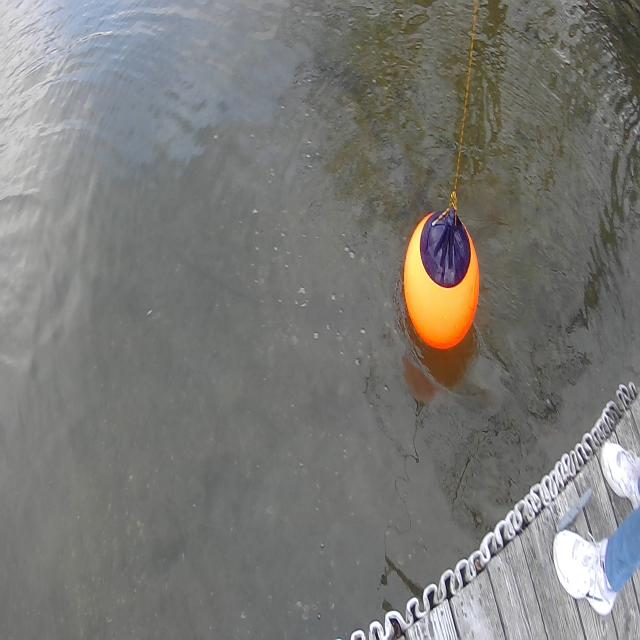Buoy: (401, 199, 489, 366)
